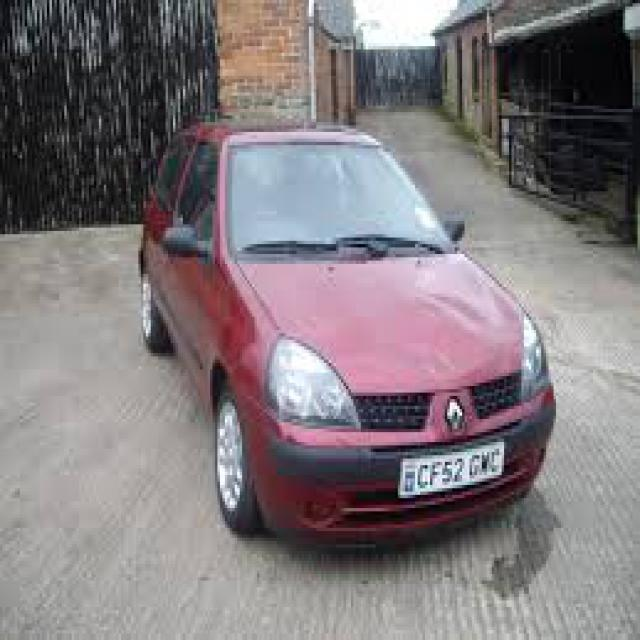bonnet-dent: (244, 250, 538, 402)
